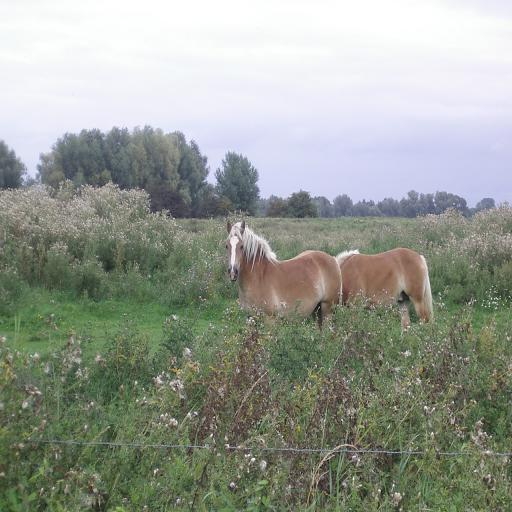Horse: (224, 218, 342, 334), (333, 252, 435, 334)
